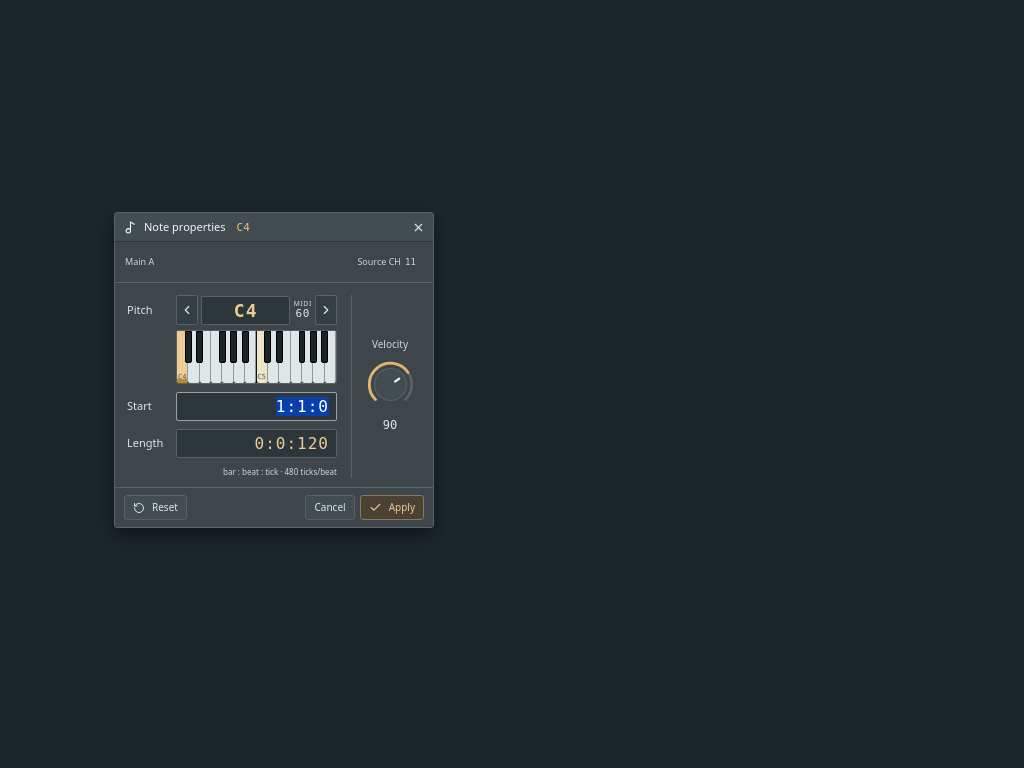
rejects stale context and surfaces backend rejection without closing
This screenshot has width=1024, height=768.
Click the button "Apply": (392, 508) [360, 495, 424, 520]
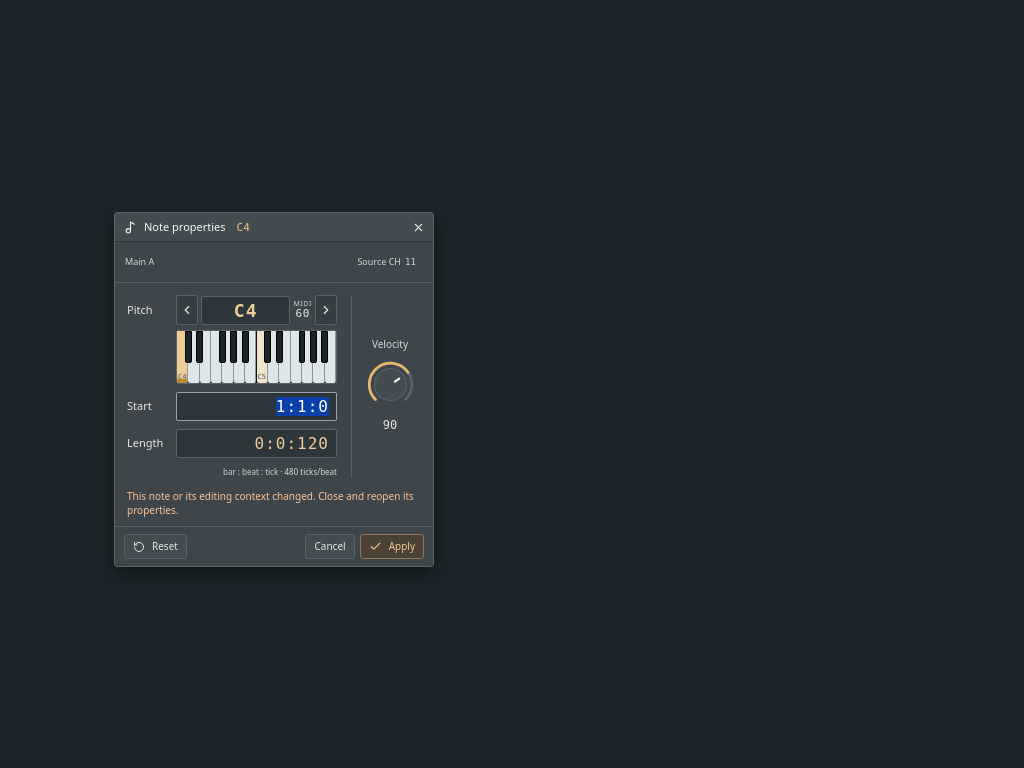
Now the message shows "context changed", box [127, 489, 414, 517]
Click the button named "Enter Note properties velocity value": (390, 426) [373, 416, 407, 436]
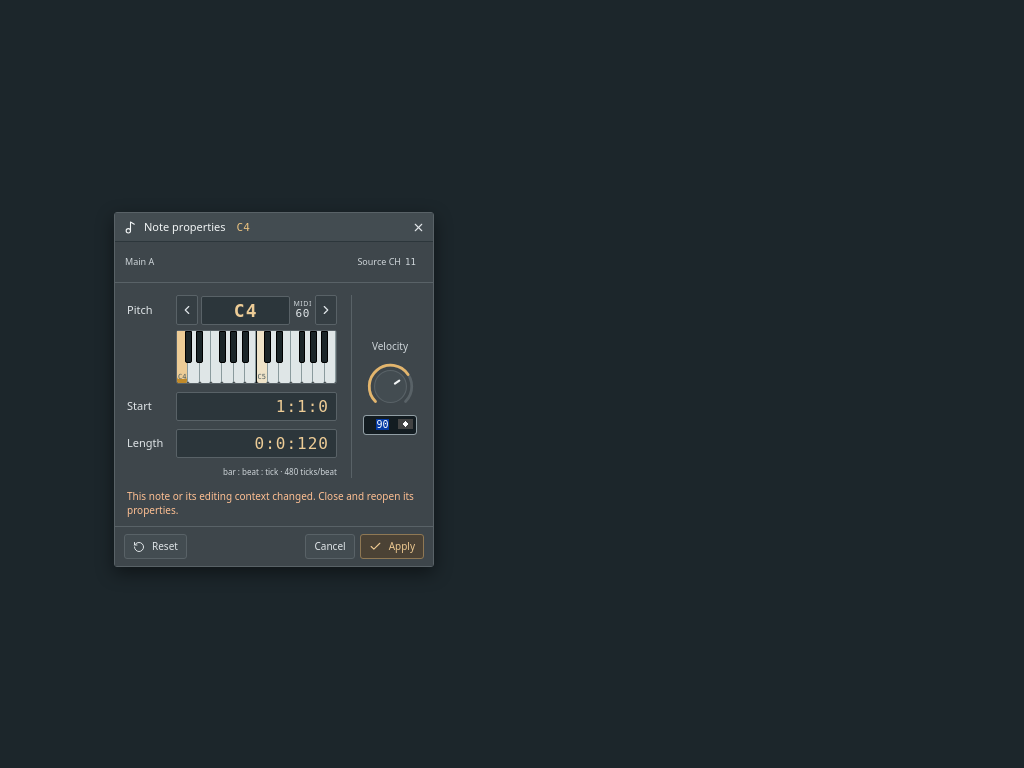
Replace the text in the number field named "Note properties velocity value" with "80": (390, 424) [363, 414, 417, 434]
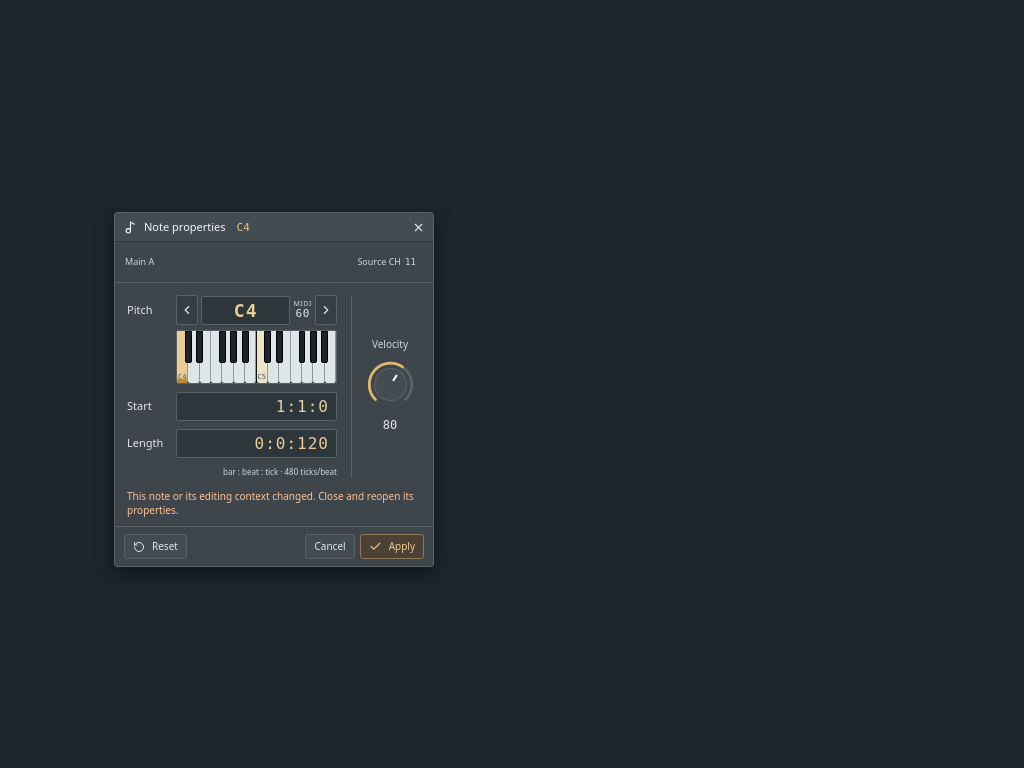
Click the button "Apply": (392, 546) [360, 534, 424, 559]
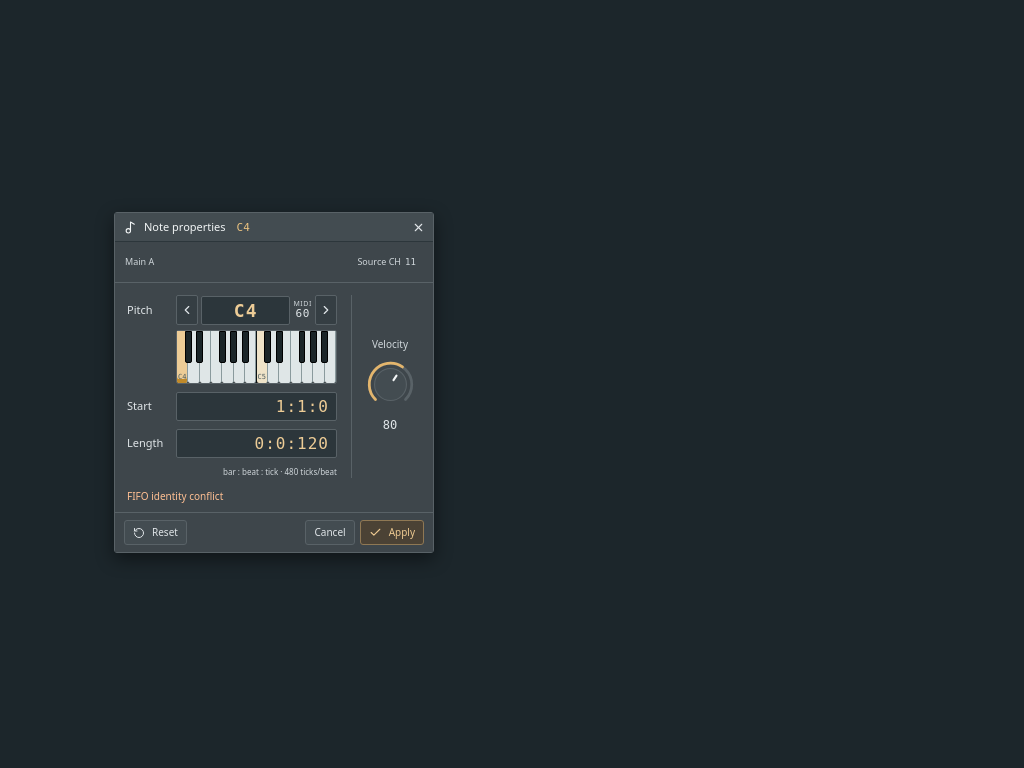
Now the message shows "FIFO", box [127, 489, 223, 503]
